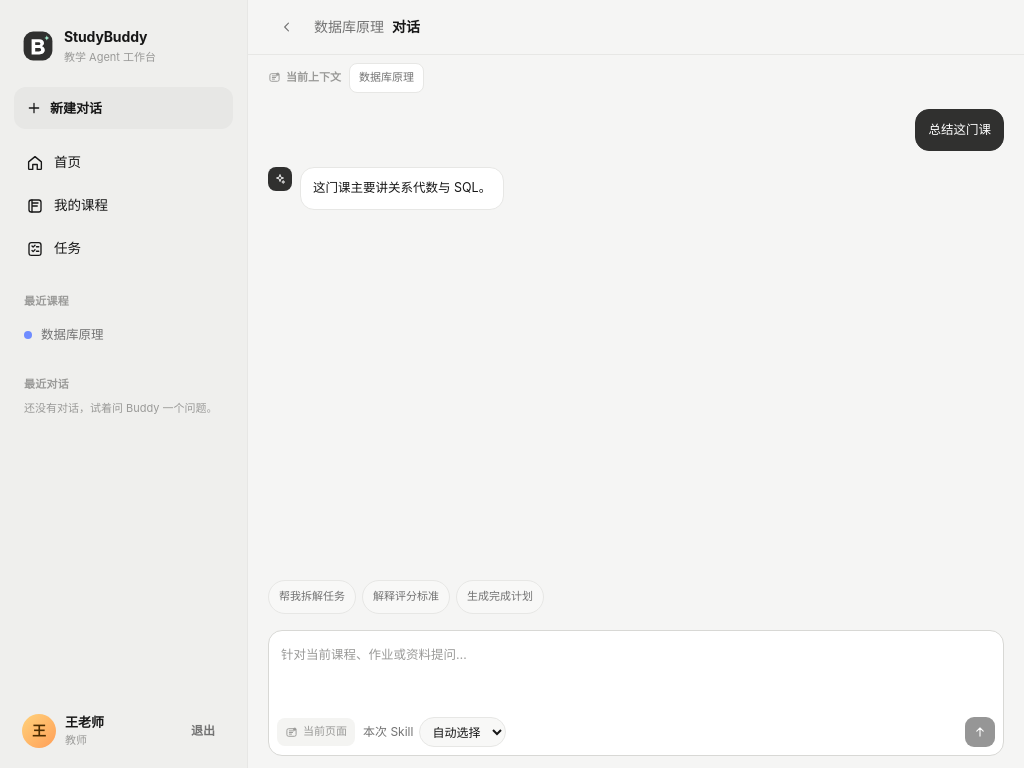
中央会话页的输入框 › 发送失败时保留草稿并显示可读错误
This screenshot has width=1024, height=768.
Type "再总结一次这门课" into the text box with placeholder "针对当前课程、作业或资料提问…" at (636, 675), box 277,639 -> 995,711
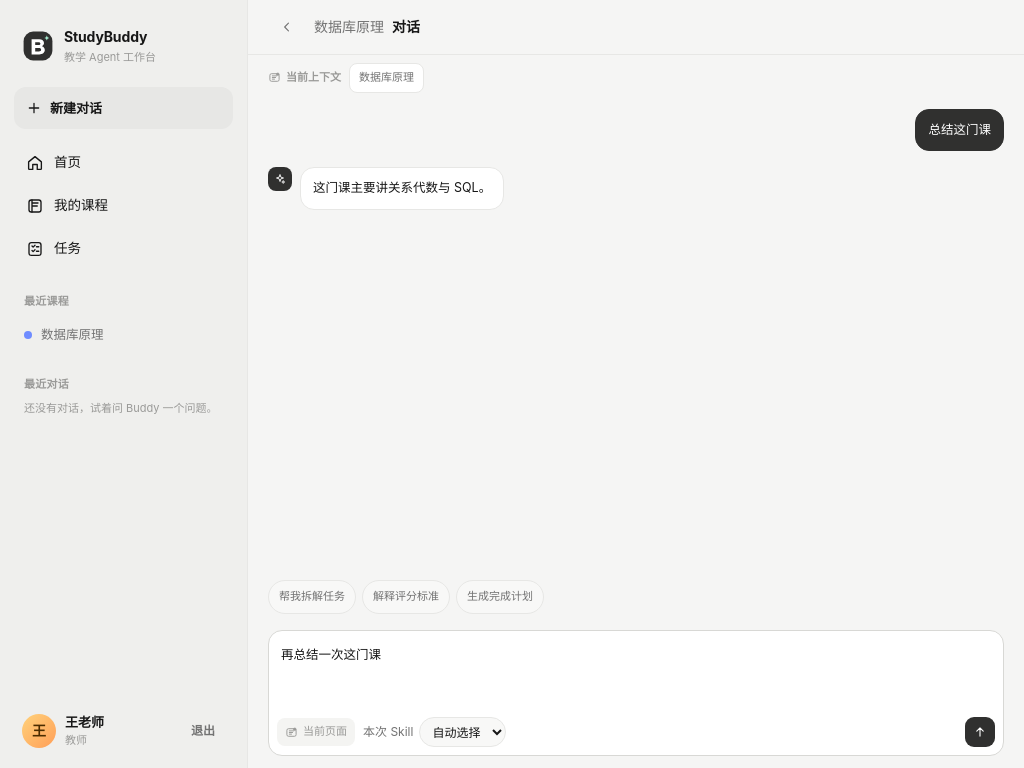
Click the button named "发送" at (980, 732), box 965,717 -> 995,747
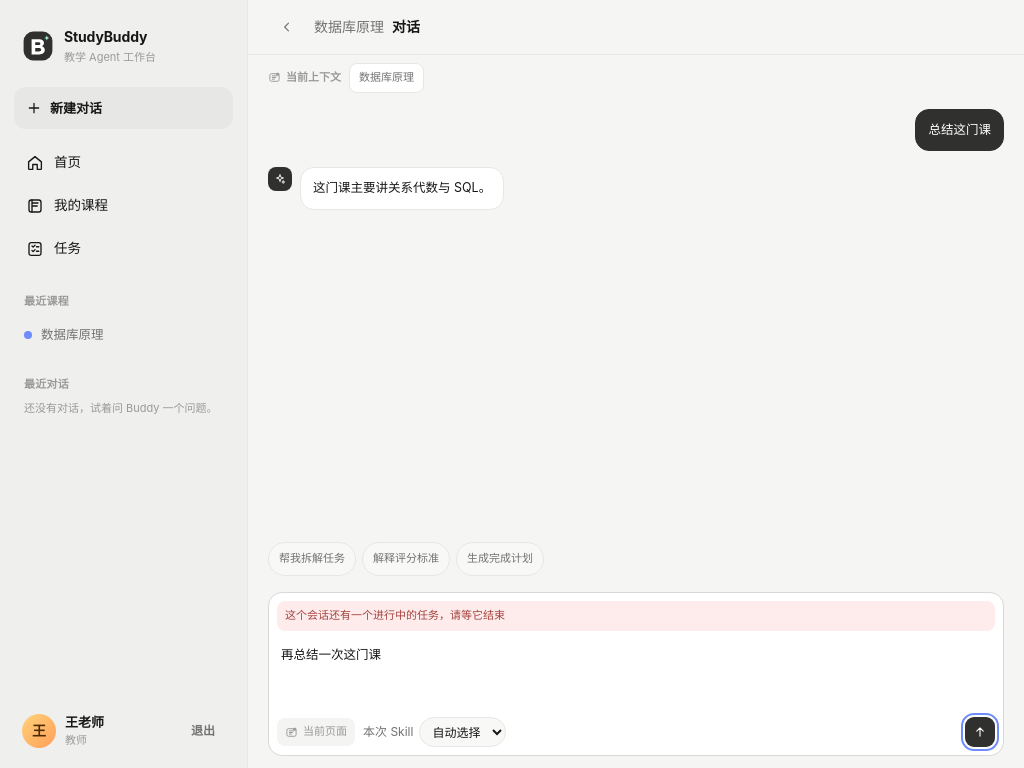
Expected: the text "这个会话还有一个进行中的任务，请等它结束" is shown, 277,601 -> 995,631
